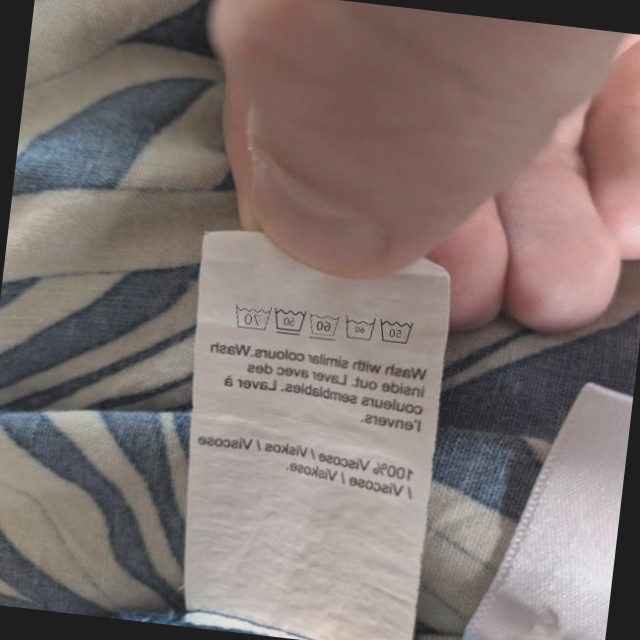50C: (375, 316, 416, 349), (271, 305, 305, 339)
60C: (342, 311, 377, 345), (306, 309, 339, 343)
70C: (229, 302, 272, 334)
